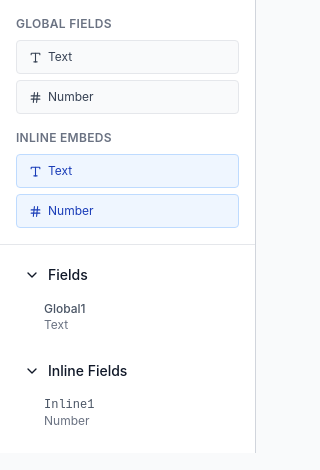
Test case: FieldSidebar.vue › toggles visibility of global and inline fields when header buttons are clicked
The image size is (320, 470).
What coordinates should you click on to do the following:
click the button "Fields"
I would click on:
 (128, 275)
Its box is [16,261,239,289].
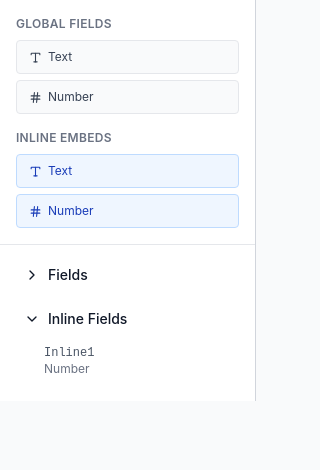
Expected: the text "Inline1" is shown, [44,346,94,360]
Result: the text "Global1" is gone
What coordinates should you click on to do the following:
click the button "Inline Fields"
I would click on:
 (128, 319)
Its box is [16,305,239,333].
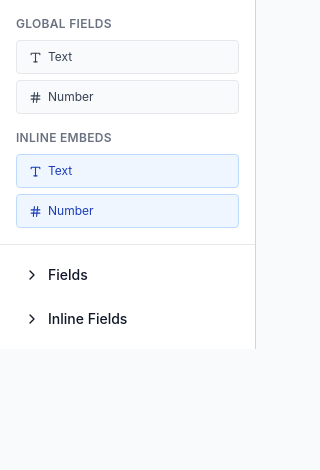
Expected: the text "Global1" is not shown
Result: the text "Inline1" is gone
